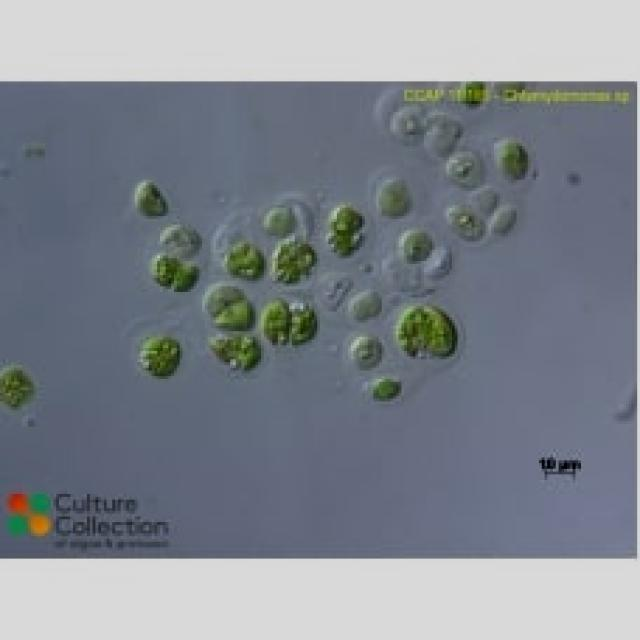Green Algae: (138, 334, 185, 382), (272, 236, 317, 286), (492, 132, 534, 182), (222, 238, 266, 280), (424, 306, 460, 356), (129, 182, 169, 222), (3, 368, 39, 412), (398, 303, 426, 359), (328, 199, 368, 236), (326, 225, 368, 258), (292, 300, 317, 348), (264, 300, 289, 348), (213, 306, 256, 331), (233, 334, 261, 371), (205, 283, 244, 306), (368, 376, 404, 399), (208, 329, 233, 362), (177, 261, 199, 295), (154, 252, 174, 284)
